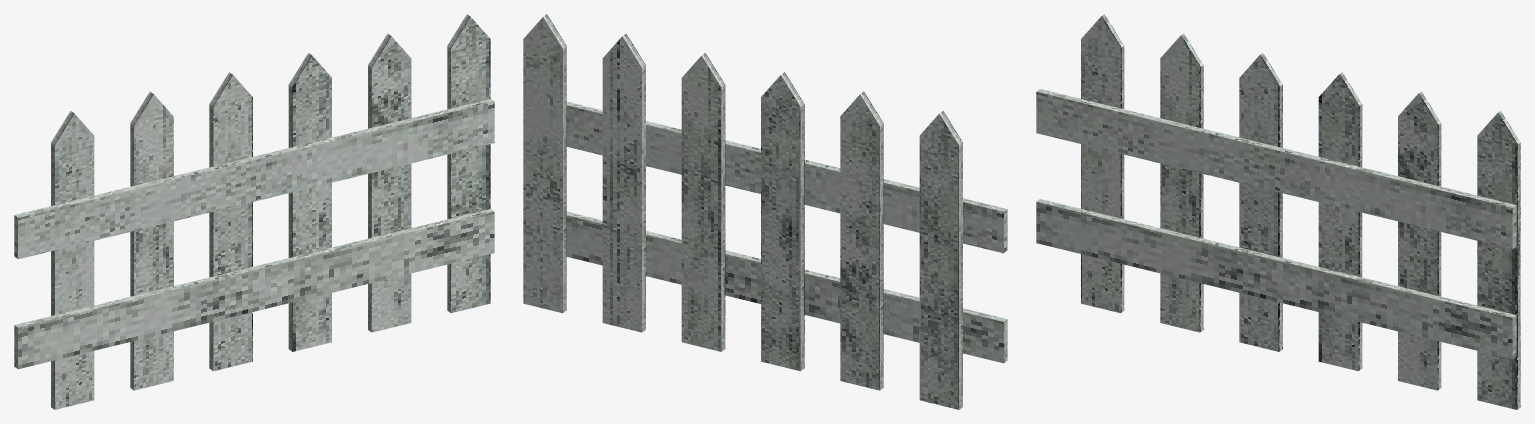
The model's file is white_picket_fence_open_right.glb.
3 renders of one model, left to right at view 1: azimuth 30°, elevation 25°; view 2: azimuth 150°, elevation 25°; view 3: azimuth 330°, elevation 25°, orthographic.
Parts seen in each view (by area): view 1: white_picket_fence_open_right; view 2: white_picket_fence_open_right; view 3: white_picket_fence_open_right.
Boxes of the visible parts, bbox=[...] form: white_picket_fence_open_right: bbox=[14, 14, 494, 409]; white_picket_fence_open_right: bbox=[523, 14, 1007, 409]; white_picket_fence_open_right: bbox=[1036, 14, 1520, 409].
Bounding box in the file's own units: 2.71 × 1.58 × 0.0778.
1 material, 1 textured.
